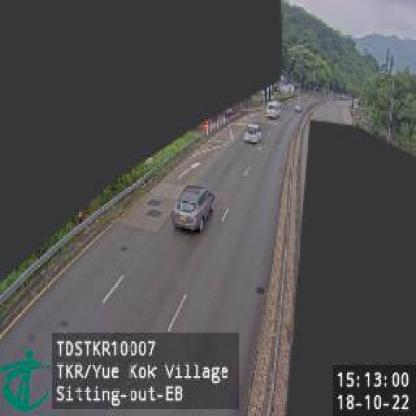Bus: (266, 99, 281, 119)
Car: (172, 185, 217, 233), (243, 122, 261, 145)
